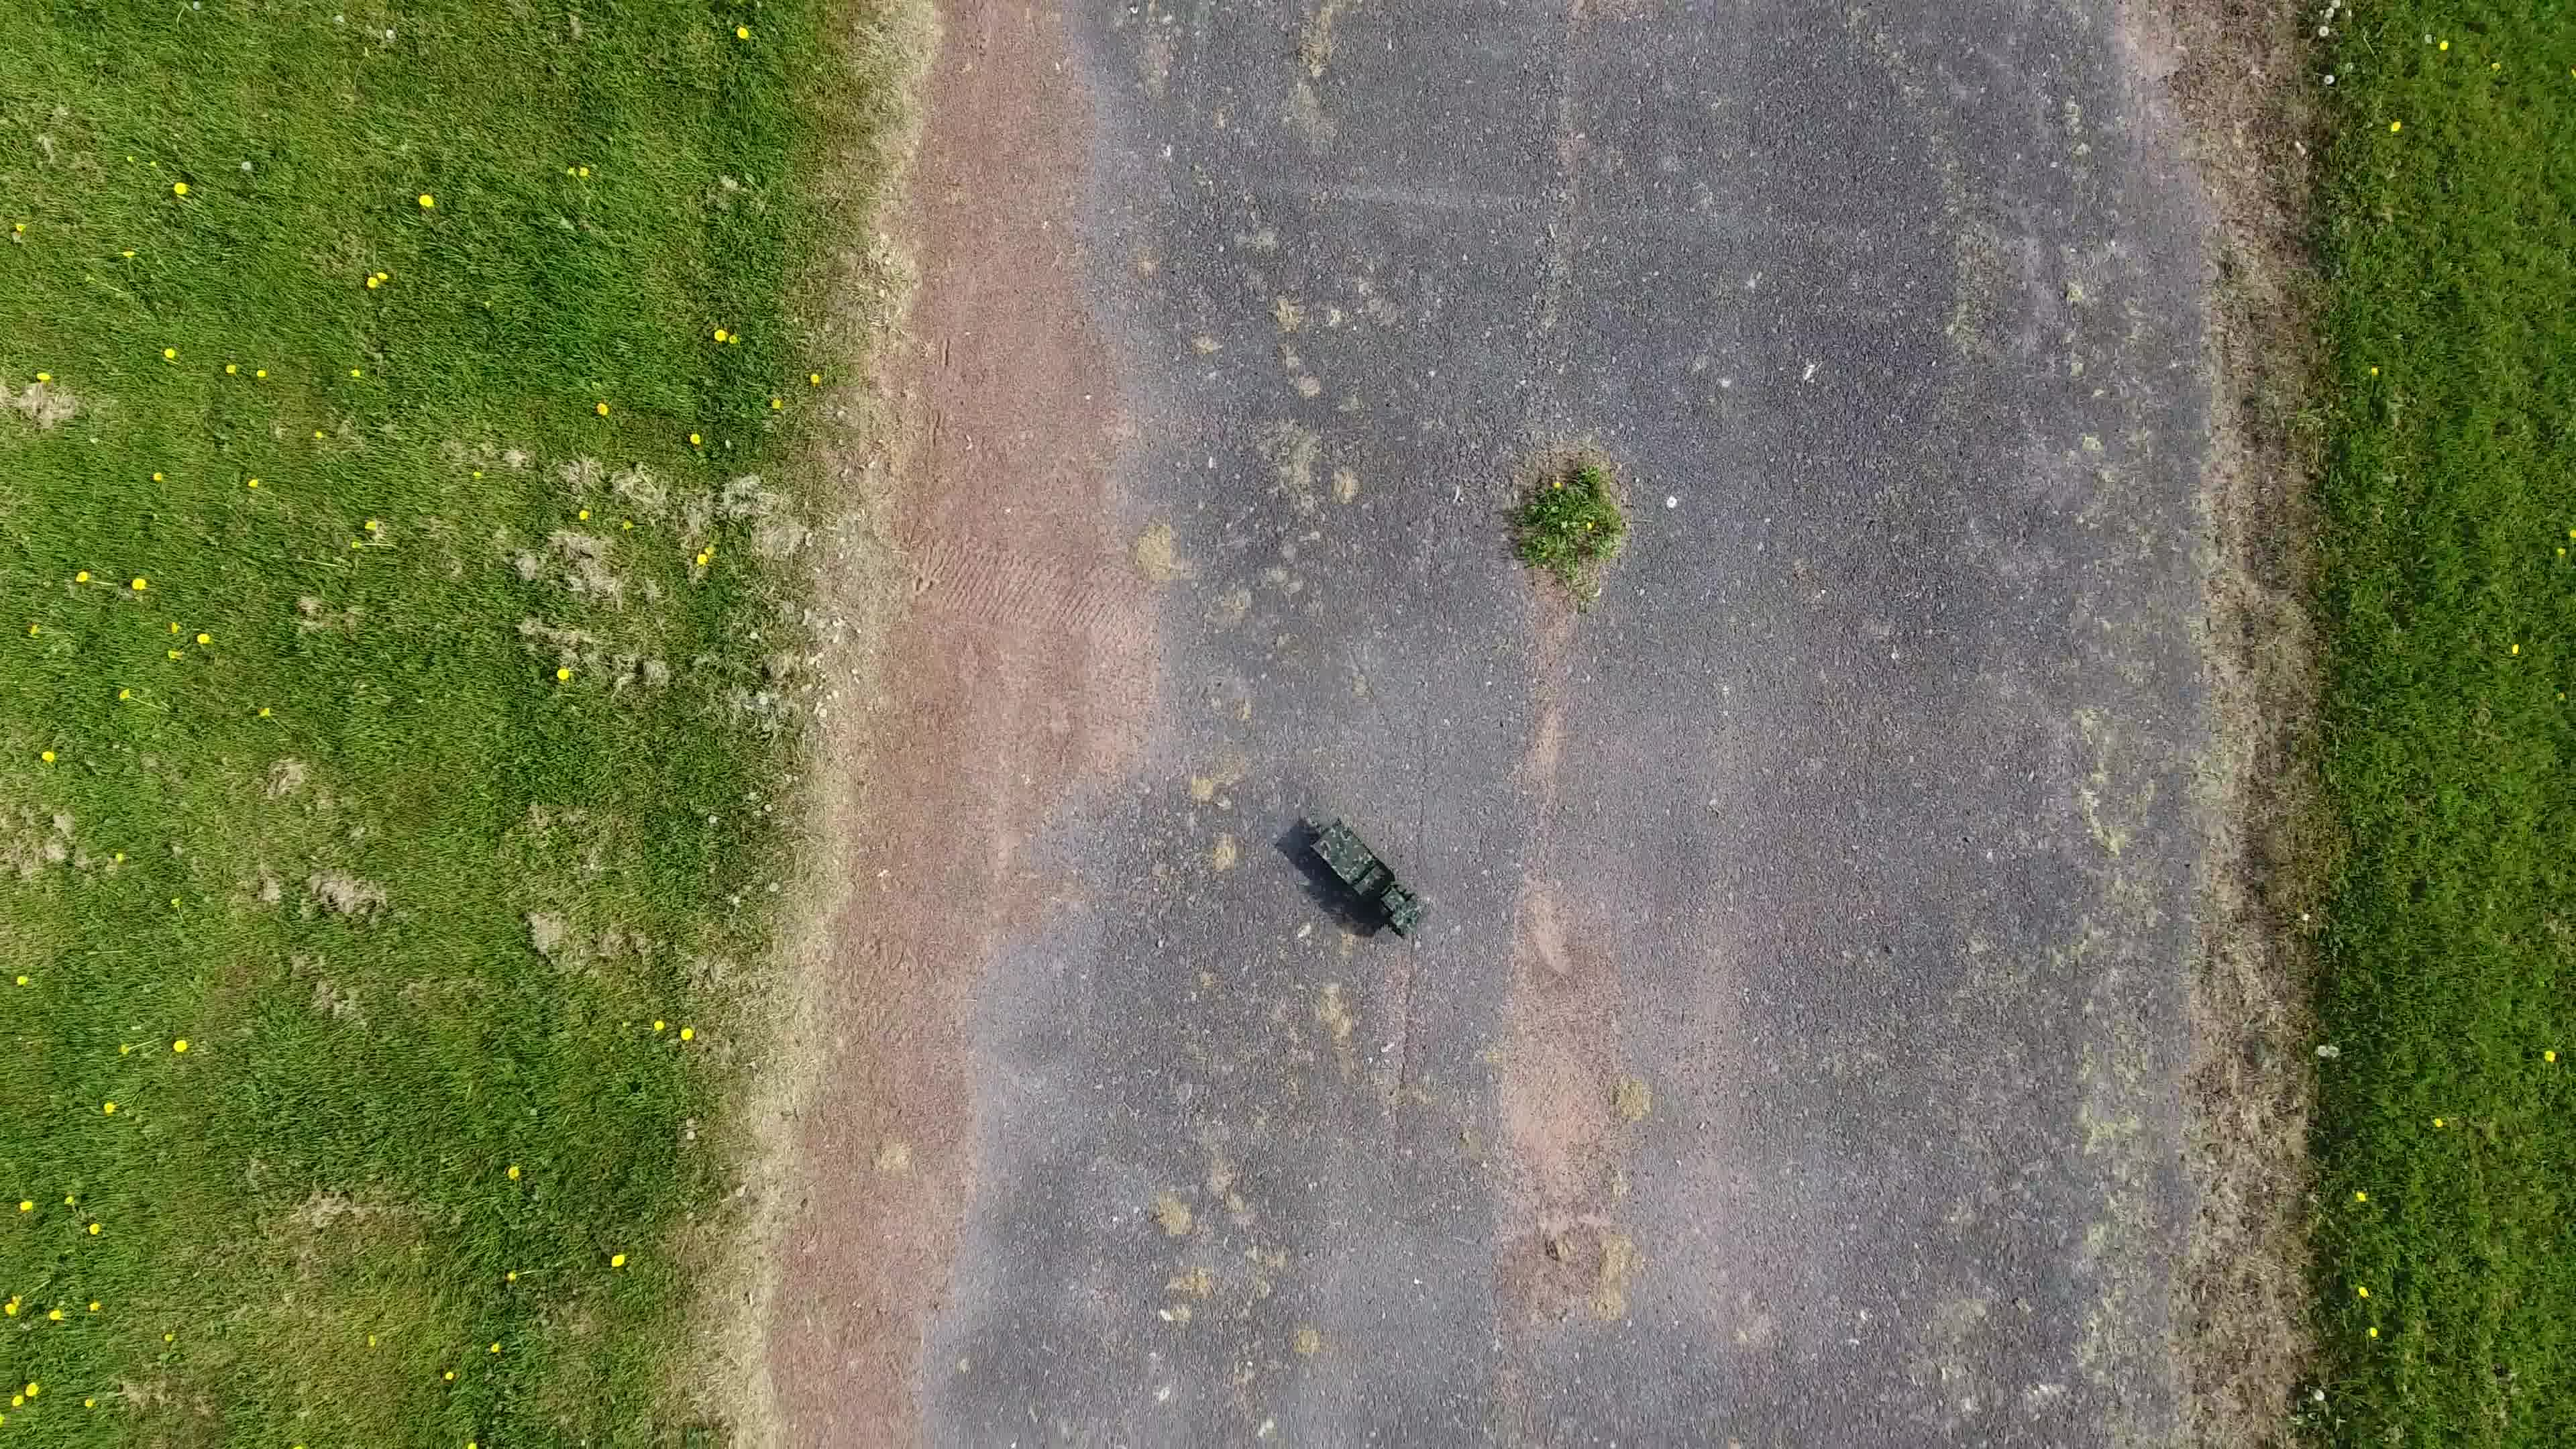transporter9_camo: (1304, 816, 1430, 943)
